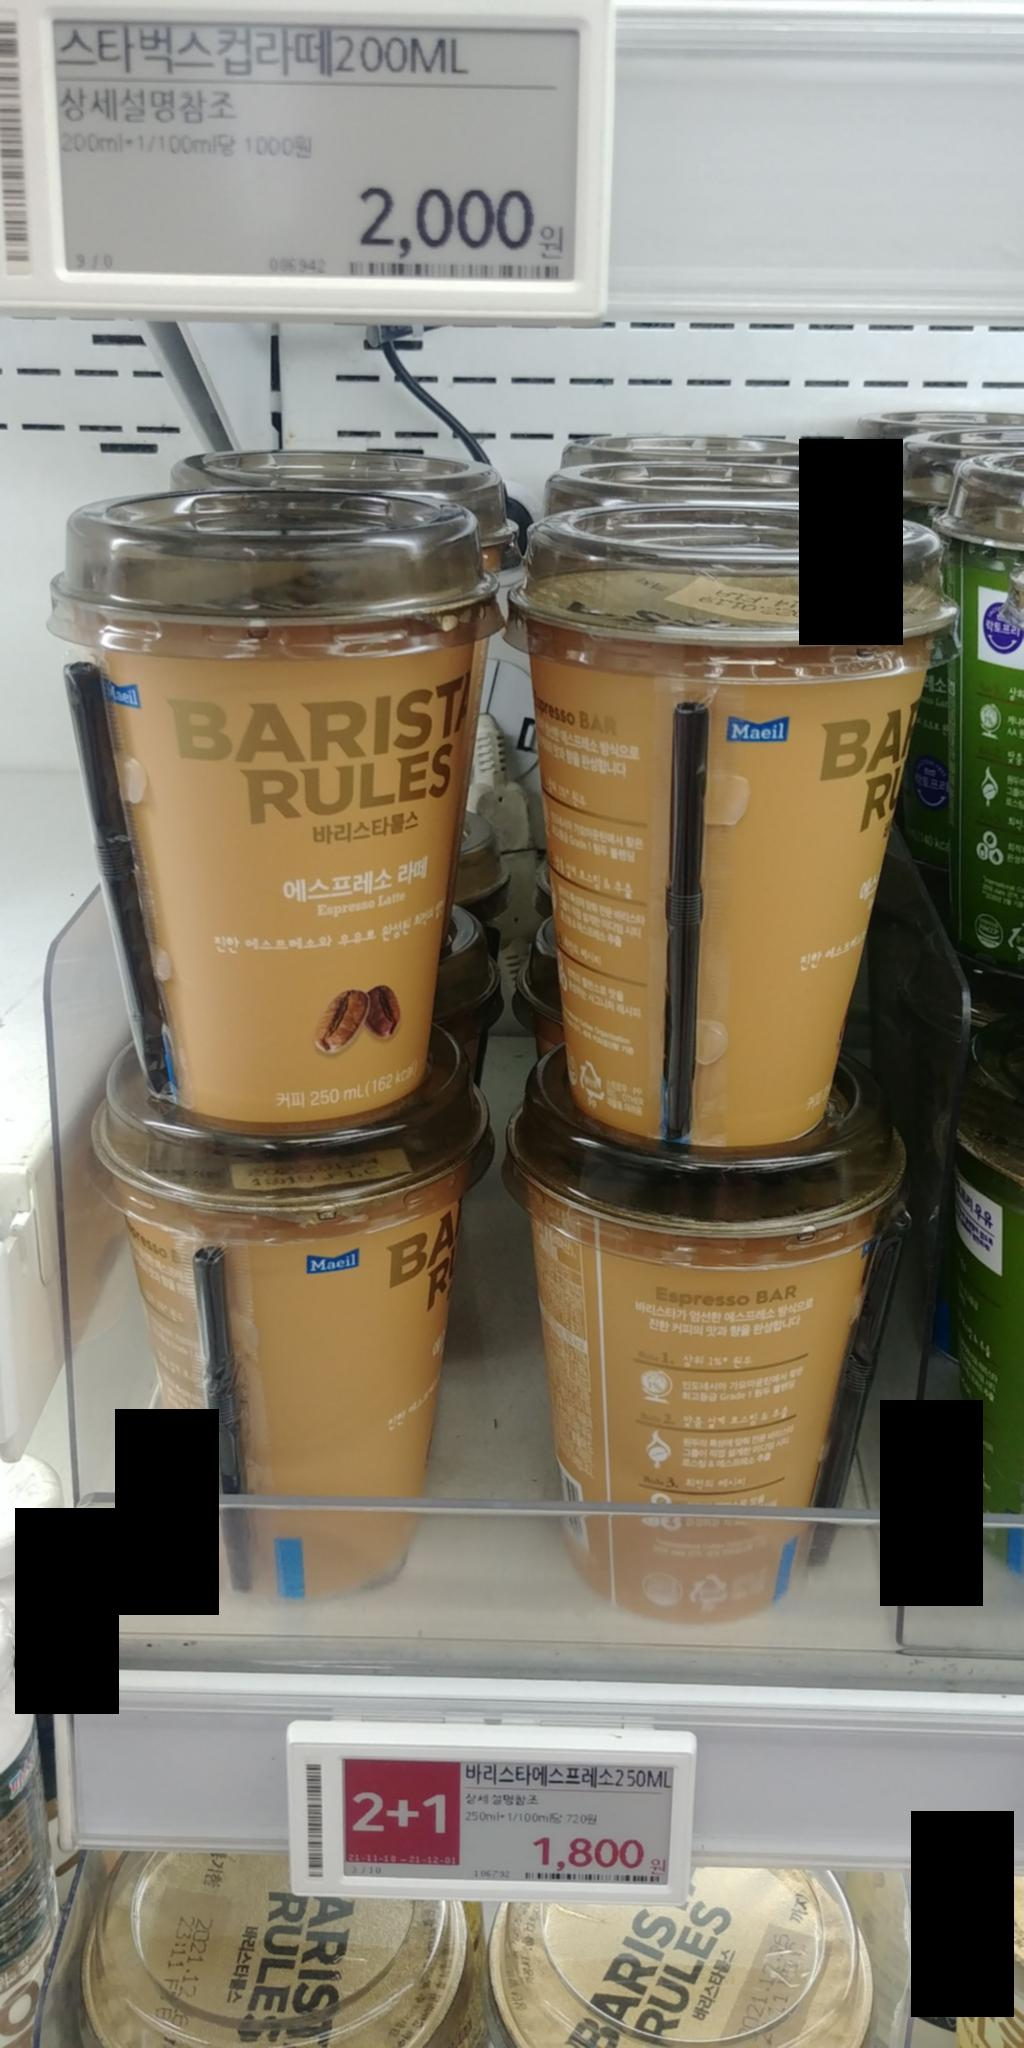baristarules_espressolatte: (33, 472, 499, 1134), (509, 499, 953, 1151), (491, 1051, 896, 1620), (88, 1031, 485, 1607)
